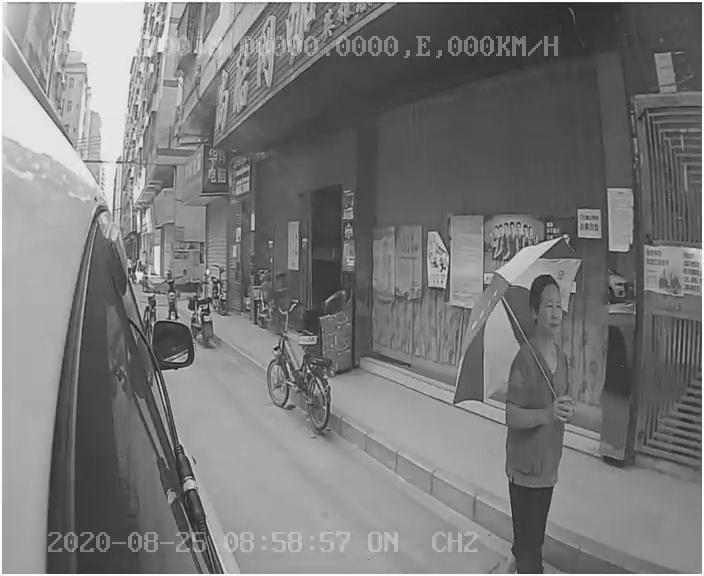person: (494, 273, 582, 562)
